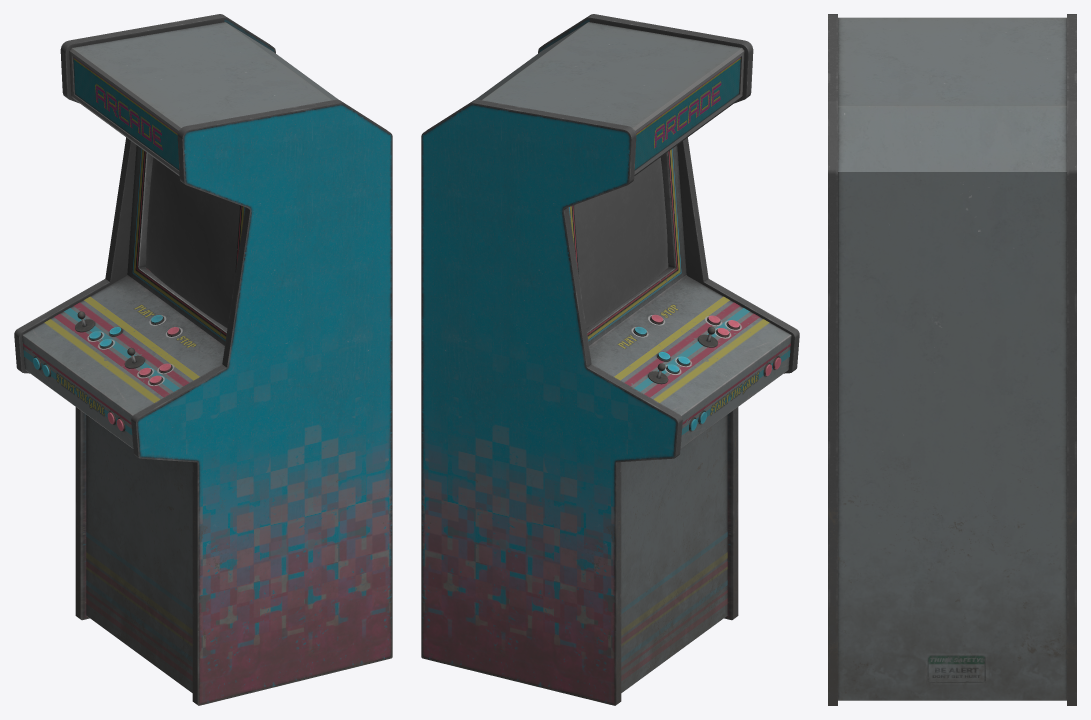
The model's file is SM_GameArcade_01a.fbx.
3 views of the same model, side by side, from view 1: azimuth 30°, elevation 25°; view 2: azimuth 150°, elevation 25°; view 3: azimuth 270°, elevation 25° (orthographic). The views are drawn at different scales.
Parts seen in each view (by area): view 1: SM_GameArcade_01a_LOD0; view 2: SM_GameArcade_01a_LOD0; view 3: SM_GameArcade_01a_LOD0.
Part boxes in pixels (left/top/right/bottom): SM_GameArcade_01a_LOD0: left=14, top=14, right=392, bottom=705; SM_GameArcade_01a_LOD0: left=421, top=14, right=799, bottom=705; SM_GameArcade_01a_LOD0: left=828, top=14, right=1076, bottom=705.
Size of the model in its own units: 96.58 by 79.3 by 208.
2 materials, 2 textured.
